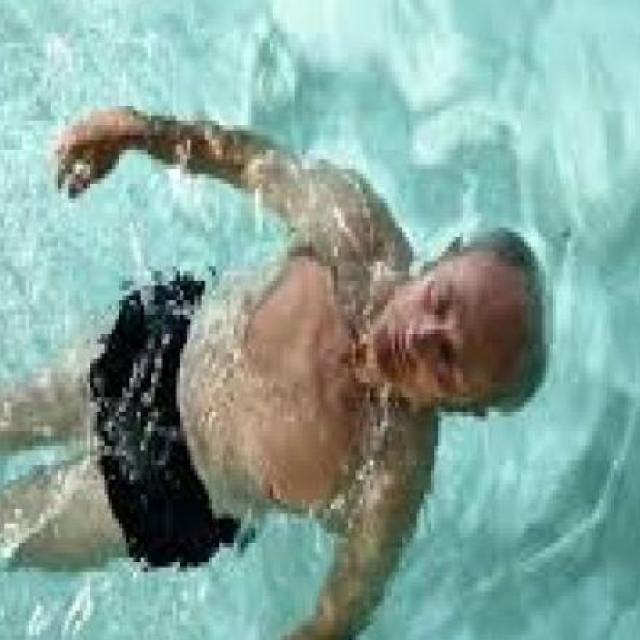Swimming: (0, 97, 553, 640)
